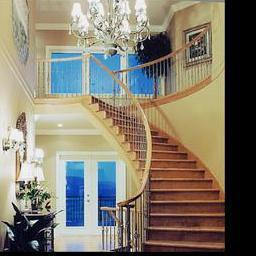Puerta: (59, 157, 124, 247)
